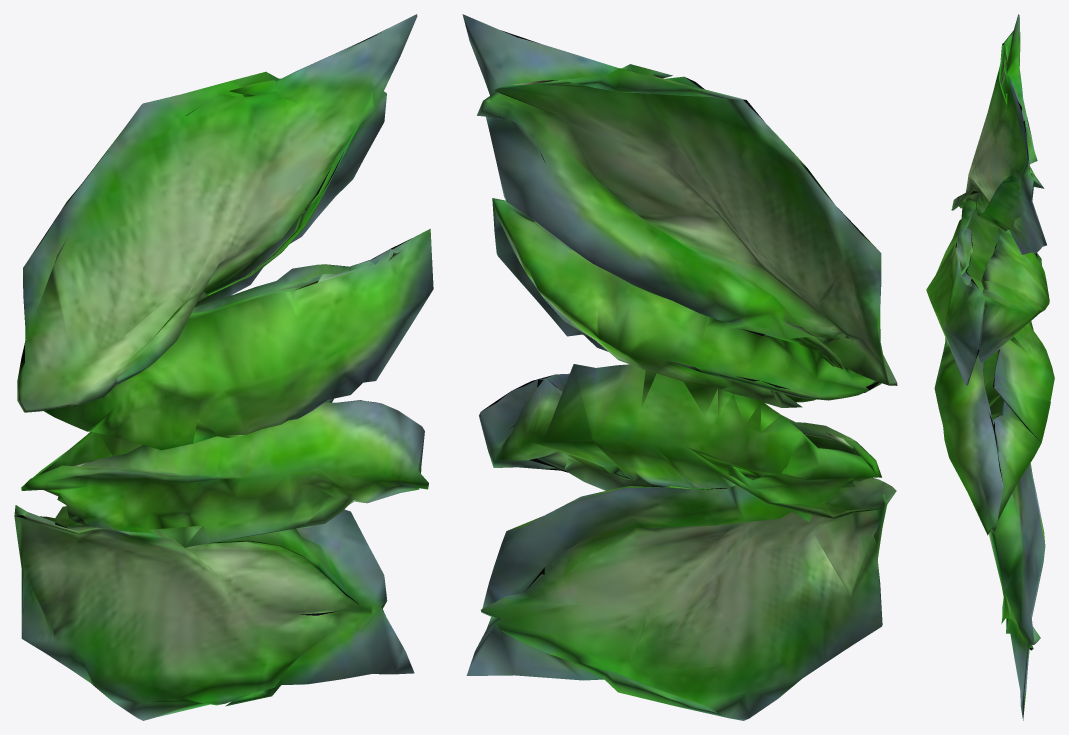
The model's file is back_prp_ailes_feuillage.glb.
3 renders of one model, left to right at view 1: azimuth 30°, elevation 25°; view 2: azimuth 150°, elevation 25°; view 3: azimuth 270°, elevation 25°, orthographic. The views are drawn at different scales.
Parts seen in each view (by area): view 1: AileD, AileG; view 2: AileG, AileD; view 3: AileD, AileG.
Part boxes in pixels (x1,y1,x2,y2): AileD: (17,14,433,450); AileG: (14,398,428,720); AileG: (466,347,896,720); AileD: (462,14,897,432); AileD: (926,14,1049,385); AileG: (934,307,1054,720).
Size of the model in its own units: 1.31 by 2 by 0.387.
Materials: 1 (1 with a texture image).
